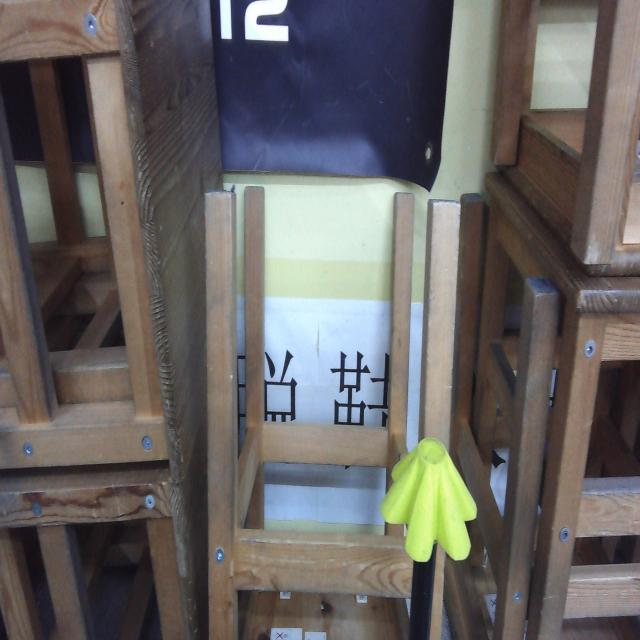Yellow-Stake-Head: (380, 437, 477, 562)
